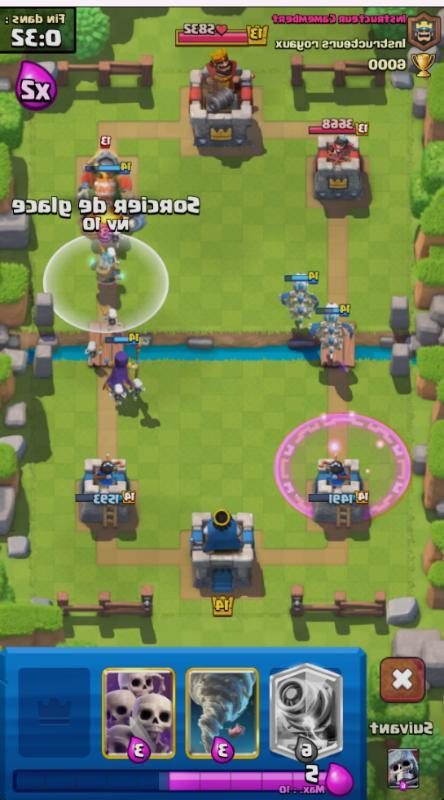enemy_inferno_dragon: (81, 135, 133, 212)
enemy_spear_goblins: (84, 228, 130, 286)
player_skeleton_dragon: (274, 267, 323, 328), (308, 299, 358, 357)
player_skeletons: (78, 338, 106, 366), (97, 303, 125, 329), (105, 380, 131, 407), (126, 374, 148, 402)
player_witch: (98, 328, 151, 393)
rage: (270, 406, 414, 524)
